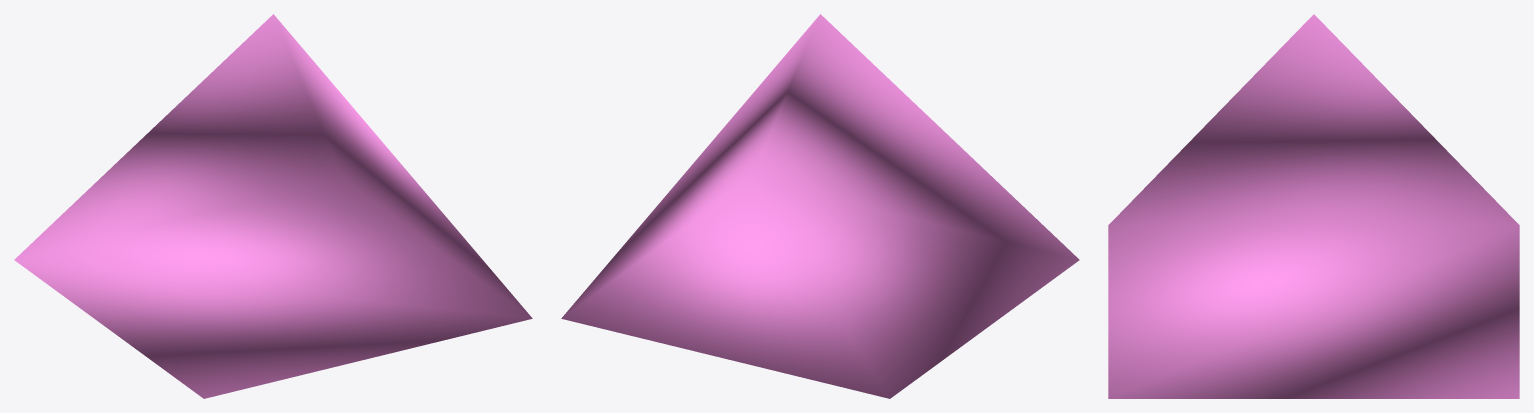
The model's file is pink_pyramid.glb.
3 renders of one model, left to right at view 1: azimuth 30°, elevation 25°; view 2: azimuth 150°, elevation 25°; view 3: azimuth 270°, elevation 25°, orthographic. The views are drawn at different scales.
Parts seen in each view (by area): view 1: pink_pyramid; view 2: pink_pyramid; view 3: pink_pyramid.
Part boxes in pixels (x1=…): pink_pyramid: x1=14, y1=14, x2=532, y2=398; pink_pyramid: x1=561, y1=14, x2=1079, y2=398; pink_pyramid: x1=1108, y1=14, x2=1519, y2=398.
Size of the model in its own units: 2 by 1.6 by 2.
